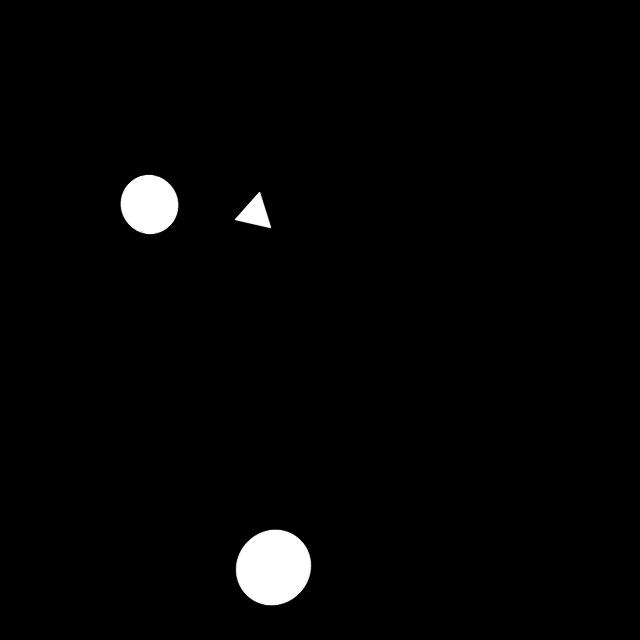Circle: (225, 518, 322, 614), (110, 167, 188, 241)
Triangle: (222, 180, 286, 236)
